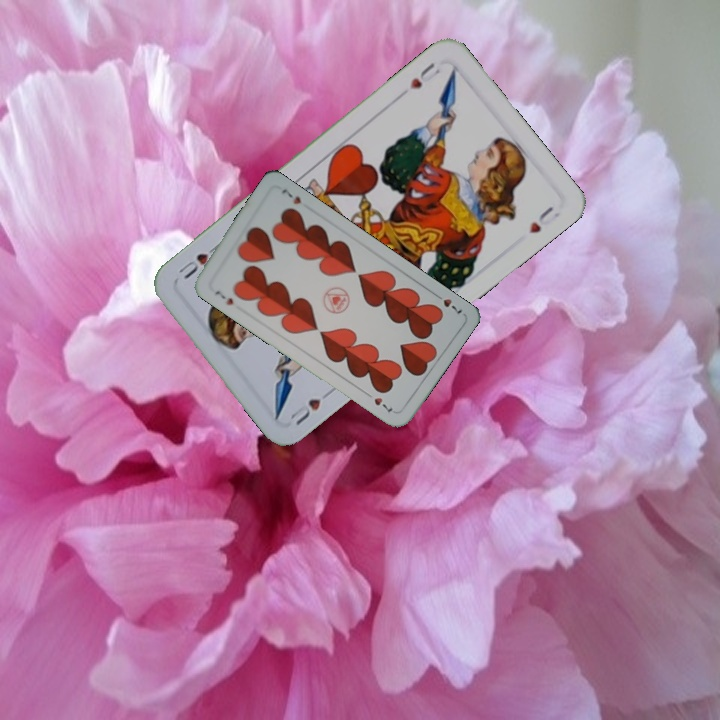H7: (430, 289, 465, 316), (211, 286, 236, 308)
HU: (286, 385, 336, 428), (405, 58, 443, 92)
